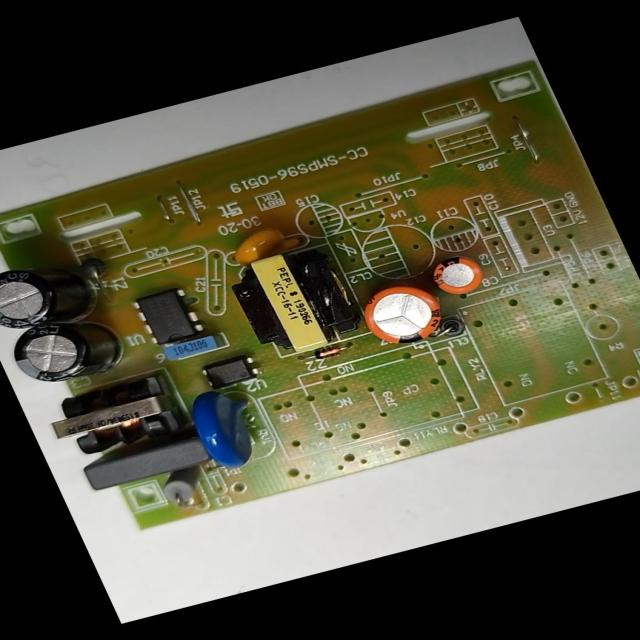Cap1: (352, 274, 456, 352)
Cap2: (427, 250, 492, 299)
Cap3: (1, 310, 132, 392)
Cap4: (0, 252, 105, 337)
MOSFET: (129, 283, 207, 346)
Mov: (181, 382, 281, 474)
Resistor: (156, 464, 218, 509)
Transformer: (224, 242, 370, 360), (39, 371, 190, 462)
